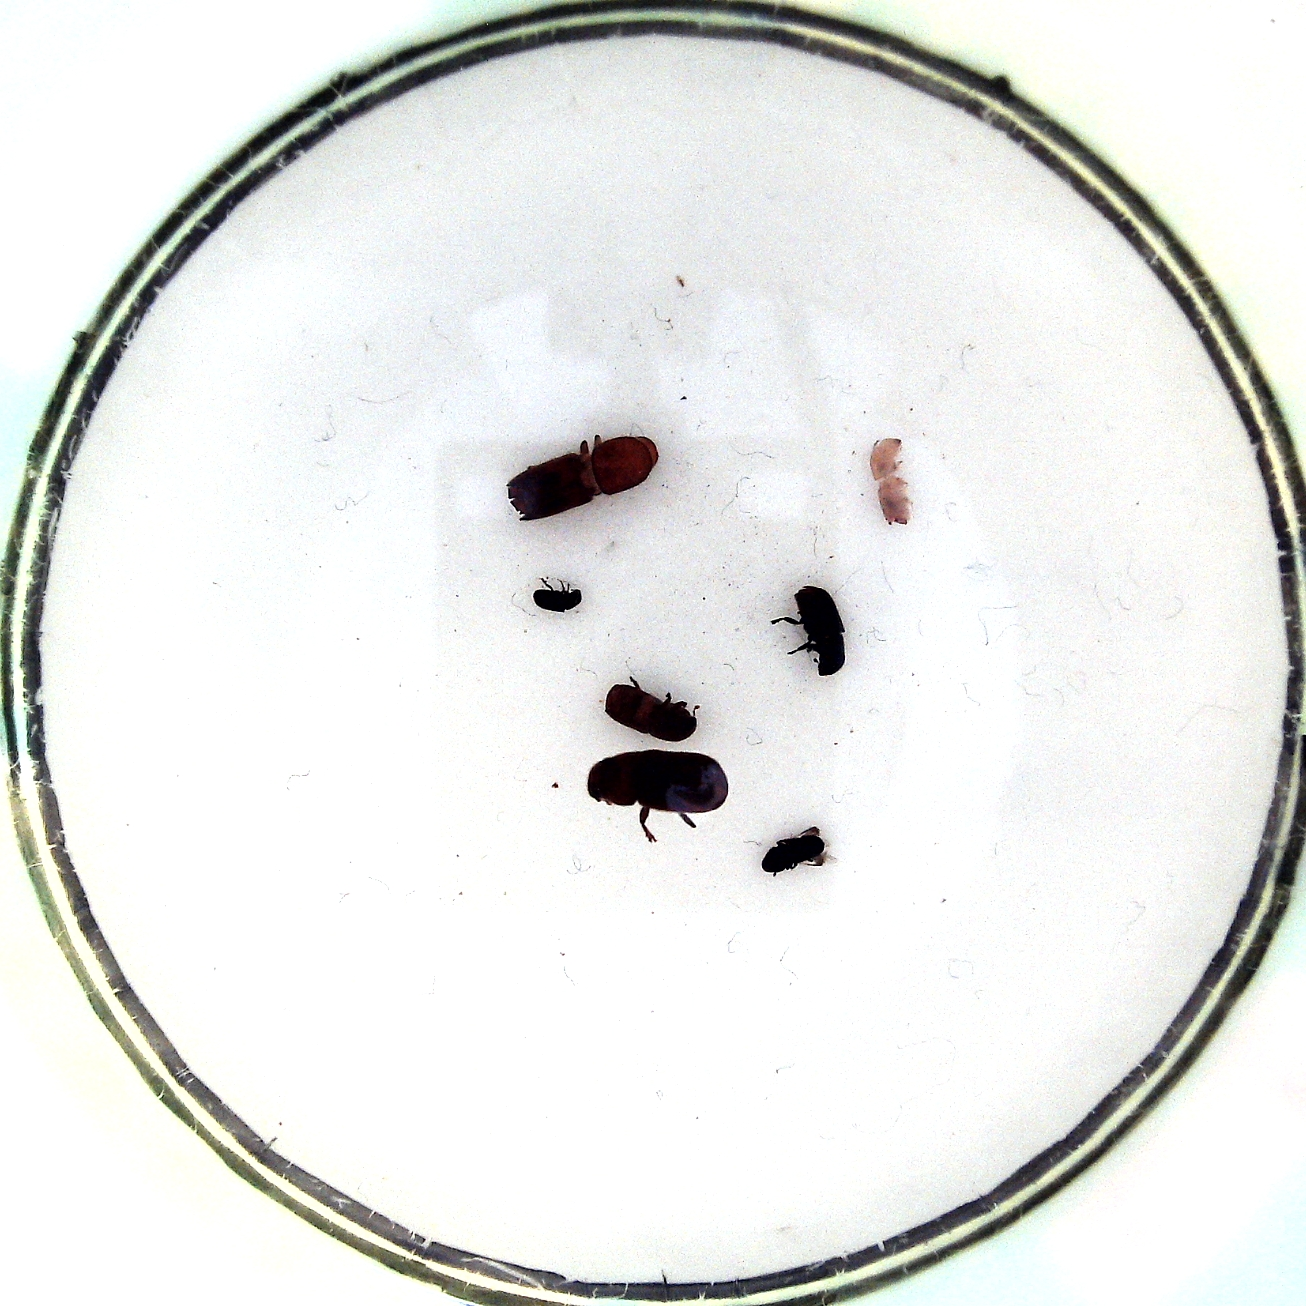Boerner: (506, 429, 663, 526)
Leconte: (578, 745, 736, 847)
Linnaeus: (599, 671, 706, 745)
acuminatus: (865, 434, 921, 535)
armandi: (768, 580, 852, 681)
coleoptera: (757, 820, 840, 875), (529, 570, 586, 614)
